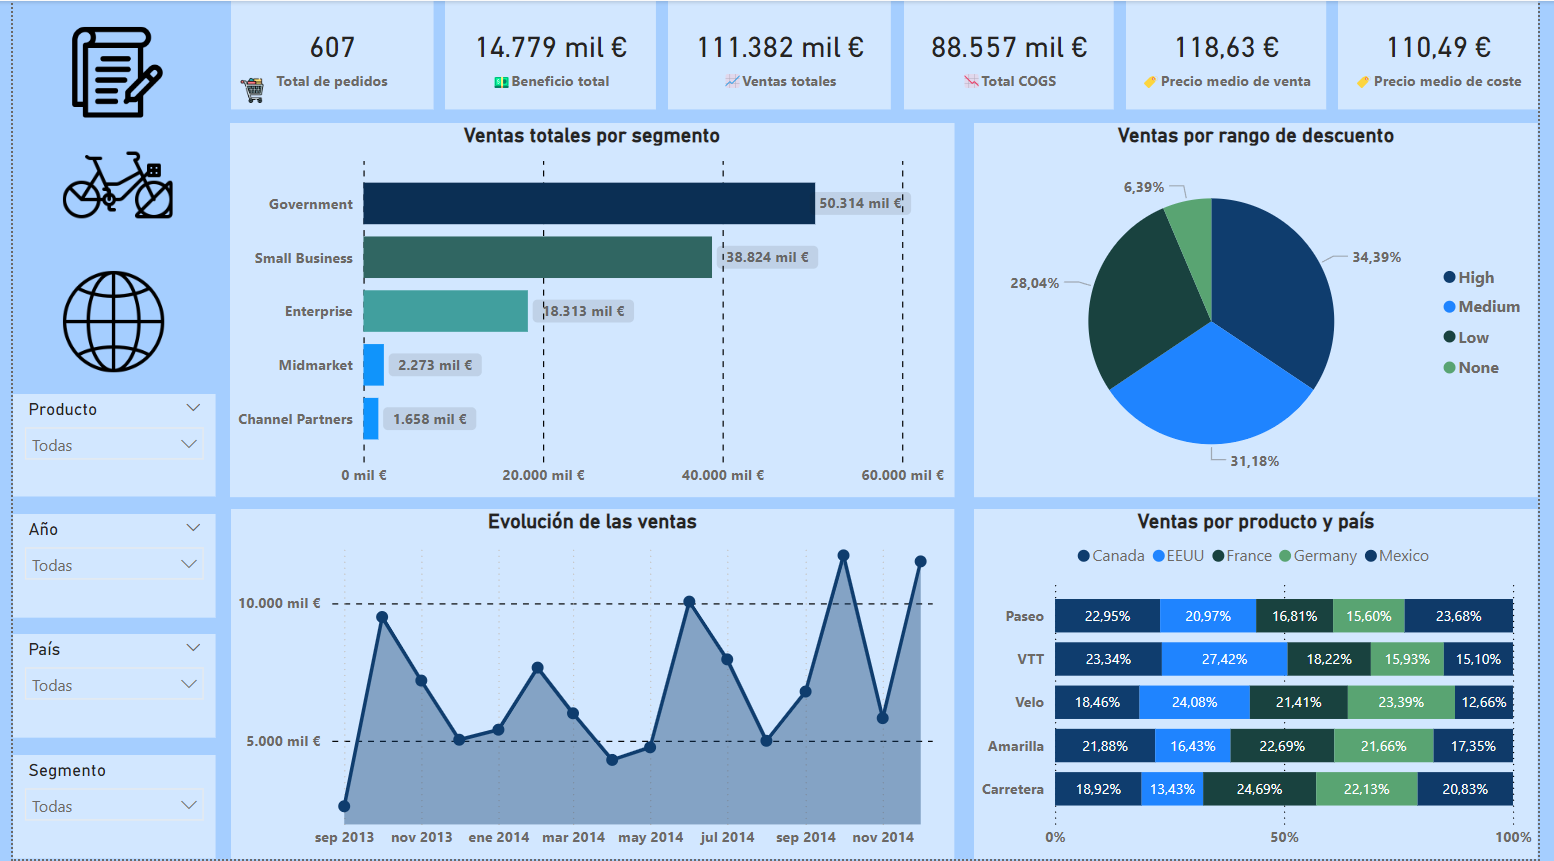

Layout of this report page (visuals, bound fields, positions):
{"tool":"powerbi","page":{"name":"Resumen","canvas":[1280,720],"ordinal":0},"visuals":[{"type":"stackedAreaChart","title":"Evolución de las ventas","fields":{"Category":["Calendar.Date"],"Y":["Sum(financials.Ventas brutas)"]},"box":[182.9,426.3,606.7,293.7],"z":0},{"type":"card","fields":{"Values":["Dax Medidas.Numero de pedidos"]},"box":[182.9,0,169.5,91.5],"z":1000},{"type":"card","fields":{"Values":["Sum(financials.Beneficio)"]},"box":[362.7,0,177.1,91.5],"z":2000},{"type":"card","fields":{"Values":["Sum(financials.Ventas brutas)"]},"box":[550,0,187.1,91.5],"z":3000},{"type":"card","fields":{"Values":["Sum(financials.COGS)"]},"box":[747.4,0,176.2,91.5],"z":4000},{"type":"card","fields":{"Values":["Avg(financials.Precio de venta)"]},"box":[933.8,0,167.8,91.5],"z":5000},{"type":"card","fields":{"Values":["Avg(financials.Precio de fabricación)"]},"box":[1111.9,0,167.8,91.5],"z":6000},{"type":"slicer","fields":{"Values":["Calendar.Date.Variación.Jerarquía de fechas.Año"]},"box":[0,430.3,170.3,87.3],"z":7000},{"type":"slicer","fields":{"Values":["financials.País"]},"box":[0,531.5,170.3,87.3],"z":8000},{"type":"slicer","fields":{"Values":["financials.Segmento"]},"box":[0,632.7,170.3,87.3],"z":9000},{"type":"slicer","fields":{"Values":["financials.Producto"]},"box":[0,330,170.3,86.4],"z":10000},{"type":"clusteredBarChart","title":"Ventas totales por segmento","fields":{"Y":["Sum(financials.Ventas brutas)"],"Category":["financials.Segmento"]},"box":[182.1,102.4,607.6,313.8],"z":11000},{"type":"pieChart","title":"Ventas por rango de descuento","fields":{"Y":["Sum(financials.Ventas brutas)"],"Category":["financials.Rango de descuento"]},"box":[806.4,102.4,473.3,313.8],"z":12000},{"type":"hundredPercentStackedBarChart","title":"Ventas por producto y  país","fields":{"Y":["Sum(financials.Ventas brutas)"],"Category":["financials.Producto"],"Series":["financials.País"]},"box":[806.4,426.3,473.3,293.7],"z":13000},{"type":"image","box":[43.6,16.8,88.1,85.6],"z":14000},{"type":"image","box":[36.9,102.4,101.5,104.9],"z":15000},{"type":"image","box":[36.9,221.2,94.8,94.8],"z":16000},{"type":"image","box":[182.1,59.6,36.1,31],"z":17000}]}

Visuals, with their boxes in screenshot pixels (x1, y1, x2, y2), scaled from the page's 1280x720 canvas onto the 1554x861 screenshot:
"Evolución de las ventas" stackedAreaChart: [left=222, top=510, right=959, bottom=860]
card - Dax Medidas.Numero de pedidos: [left=222, top=0, right=428, bottom=109]
card - Sum(financials.Beneficio): [left=440, top=0, right=655, bottom=109]
card - Sum(financials.Ventas brutas): [left=668, top=0, right=895, bottom=109]
card - Sum(financials.COGS): [left=907, top=0, right=1121, bottom=109]
card - Avg(financials.Precio de venta): [left=1134, top=0, right=1337, bottom=109]
card - Avg(financials.Precio de fabricación): [left=1350, top=0, right=1553, bottom=109]
slicer - Calendar.Date.Variación.Jerarquía de fechas.Año: [left=0, top=515, right=207, bottom=619]
slicer - financials.País: [left=0, top=636, right=207, bottom=740]
slicer - financials.Segmento: [left=0, top=757, right=207, bottom=860]
slicer - financials.Producto: [left=0, top=395, right=207, bottom=498]
"Ventas totales por segmento" clusteredBarChart: [left=221, top=122, right=959, bottom=498]
"Ventas por rango de descuento" pieChart: [left=979, top=122, right=1553, bottom=498]
"Ventas por producto y  país" hundredPercentStackedBarChart: [left=979, top=510, right=1553, bottom=860]
image: [left=53, top=20, right=160, bottom=122]
image: [left=45, top=122, right=168, bottom=248]
image: [left=45, top=265, right=160, bottom=378]
image: [left=221, top=71, right=265, bottom=108]
